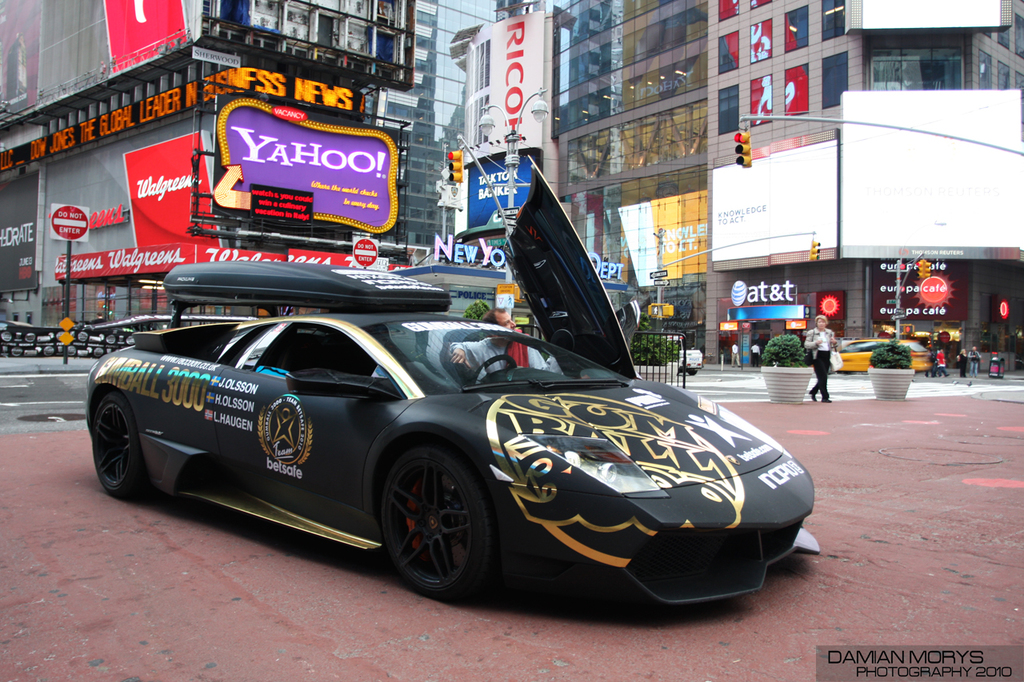Car: (88, 144, 821, 611), (844, 342, 931, 374)
